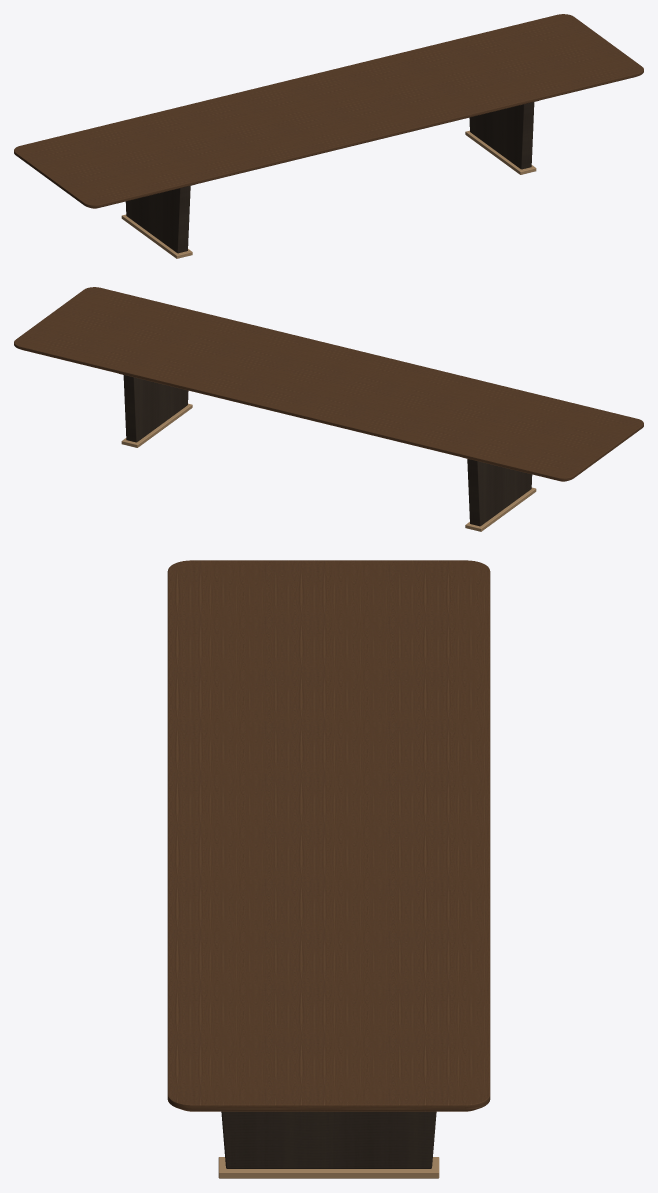
Rendered from dining_table.gltf.
3 renders of one model, top to bottom at view 1: azimuth 30°, elevation 25°; view 2: azimuth 150°, elevation 25°; view 3: azimuth 270°, elevation 25°, orthographic. The views are drawn at different scales.
Parts seen in each view (by area): view 1: DiningTable_Top, DiningTable_Leg_L, DiningTable_Leg_R, DiningTable_Plinth_L, DiningTable_Plinth_R; view 2: DiningTable_Top, DiningTable_Leg_L, DiningTable_Leg_R, DiningTable_Plinth_L, DiningTable_Plinth_R; view 3: DiningTable_Top, DiningTable_Leg_R, DiningTable_Plinth_R.
Boxes of the visible parts, x1=… form: DiningTable_Top: x1=14, y1=14, x2=643, y2=208; DiningTable_Leg_L: x1=125, y1=186, x2=190, y2=253; DiningTable_Leg_R: x1=469, y1=102, x2=534, y2=169; DiningTable_Plinth_L: x1=121, y1=214, x2=192, y2=258; DiningTable_Plinth_R: x1=465, y1=130, x2=536, y2=174; DiningTable_Top: x1=14, y1=287, x2=643, y2=481; DiningTable_Leg_L: x1=467, y1=459, x2=532, y2=526; DiningTable_Leg_R: x1=123, y1=375, x2=188, y2=442; DiningTable_Plinth_L: x1=465, y1=487, x2=536, y2=531; DiningTable_Plinth_R: x1=121, y1=403, x2=192, y2=447; DiningTable_Top: x1=167, y1=560, x2=490, y2=1111; DiningTable_Leg_R: x1=221, y1=1111, x2=436, y2=1168; DiningTable_Plinth_R: x1=218, y1=1157, x2=439, y2=1178.
Bounding box in the file's own units: 5.2 × 0.7601 × 1.3.
Materials: 3 (2 with a texture image).
